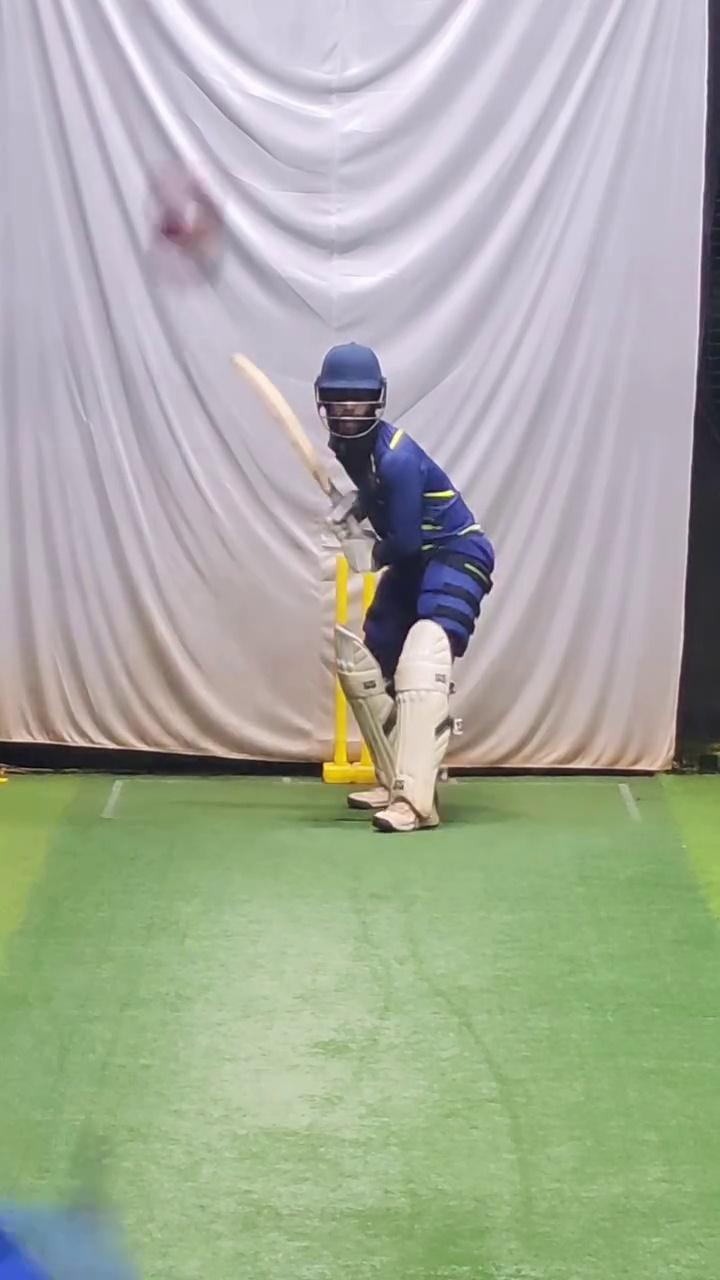bat: (224, 340, 346, 506)
